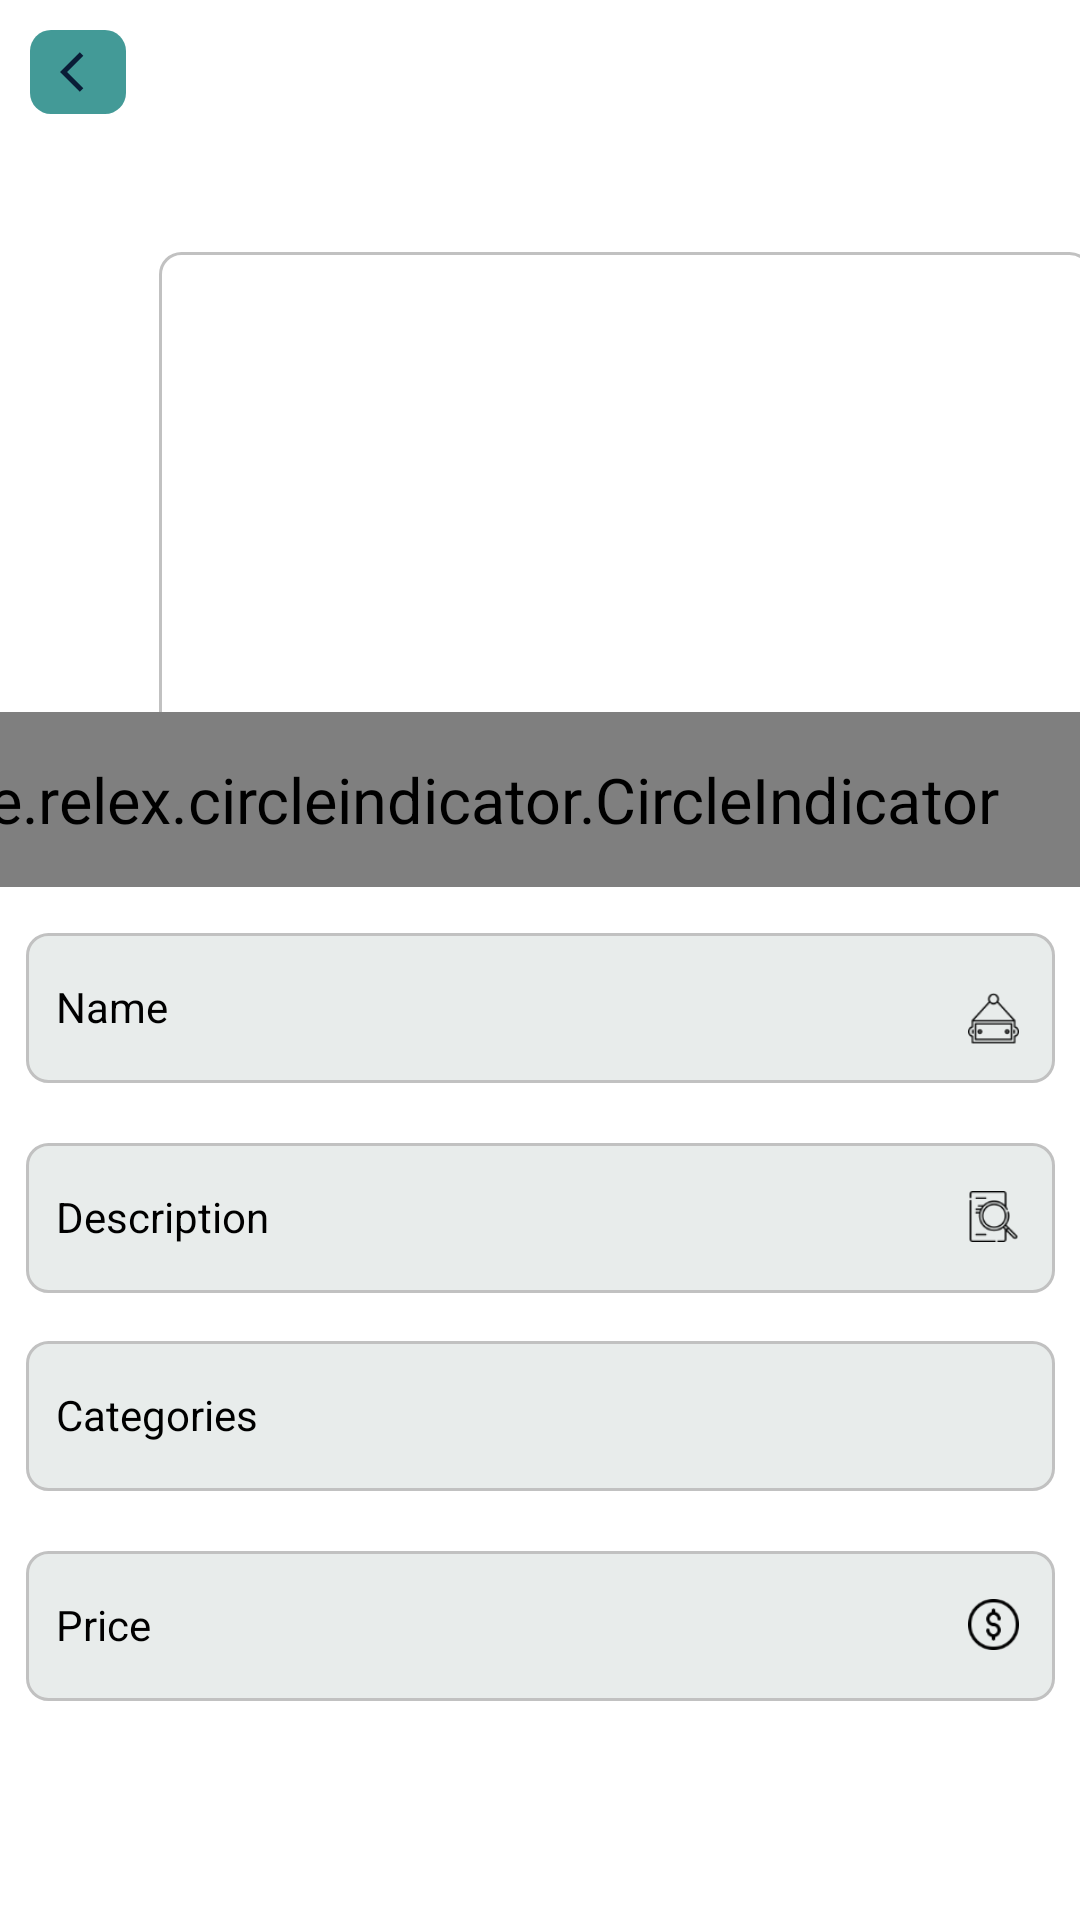

Where to tap for icons on this 1080*1920 app screen, as [x,y]:
arrow back: [71,72]
